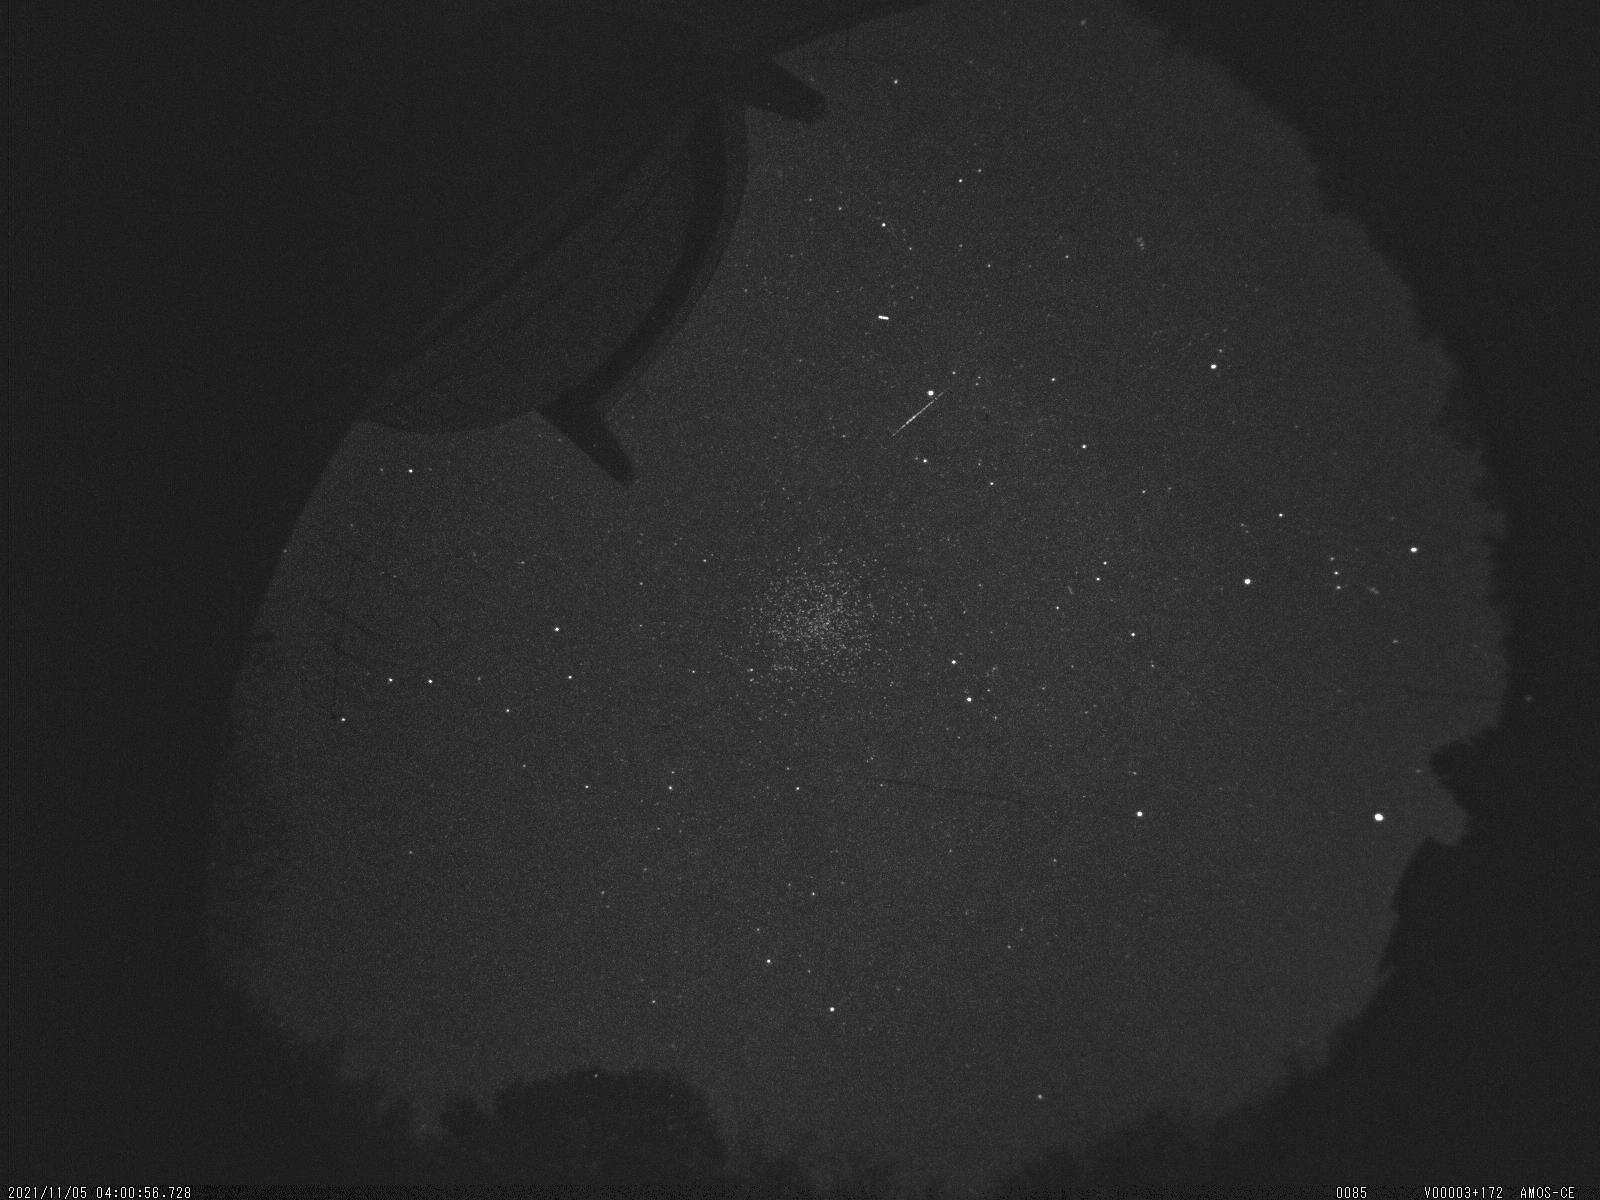Meteor: (881, 378, 957, 446)
